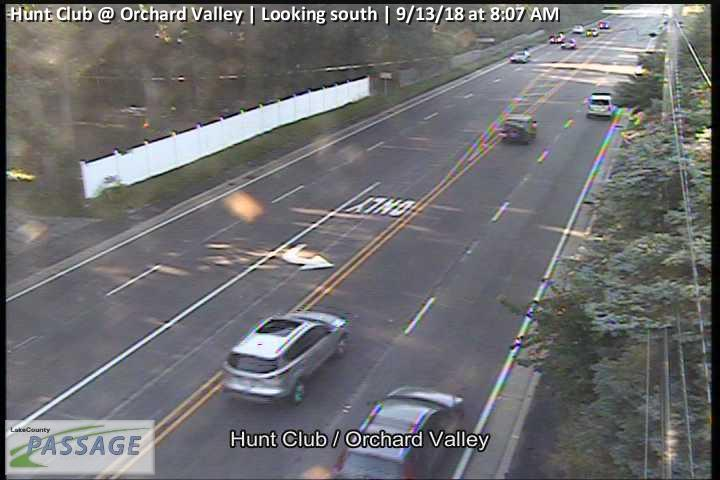SUV: (221, 311, 348, 404), (586, 92, 615, 117)
Sedan: (331, 386, 465, 480), (500, 114, 536, 142), (509, 50, 530, 63), (561, 39, 577, 50), (549, 32, 565, 43), (573, 24, 584, 33), (587, 28, 599, 36), (597, 21, 609, 29)
